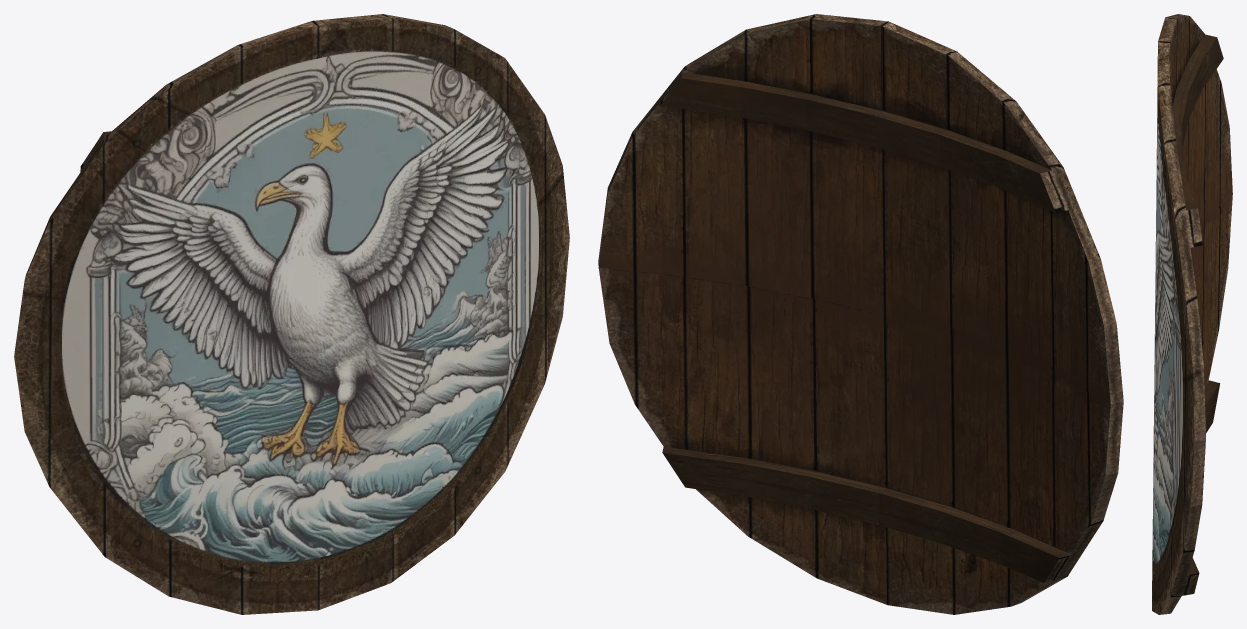
The model's file is DE_VALCOUR_SHIELD_WODDEN.glb.
3 views of the same model, side by side, from view 1: azimuth 30°, elevation 25°; view 2: azimuth 150°, elevation 25°; view 3: azimuth 270°, elevation 25° (orthographic). The views are drawn at different scales.
Visible parts, largest first — view 1: DE_VALCOUR_SHIELD_WODDEN; view 2: DE_VALCOUR_SHIELD_WODDEN; view 3: DE_VALCOUR_SHIELD_WODDEN.
Boxes of the visible parts, x1=… form: DE_VALCOUR_SHIELD_WODDEN: x1=14, y1=14, x2=569, y2=614; DE_VALCOUR_SHIELD_WODDEN: x1=598, y1=14, x2=1123, y2=614; DE_VALCOUR_SHIELD_WODDEN: x1=1152, y1=14, x2=1232, y2=614.
Size of the model in its own units: 0.7321 by 0.7521 by 0.1008.
1 material, 1 textured.
